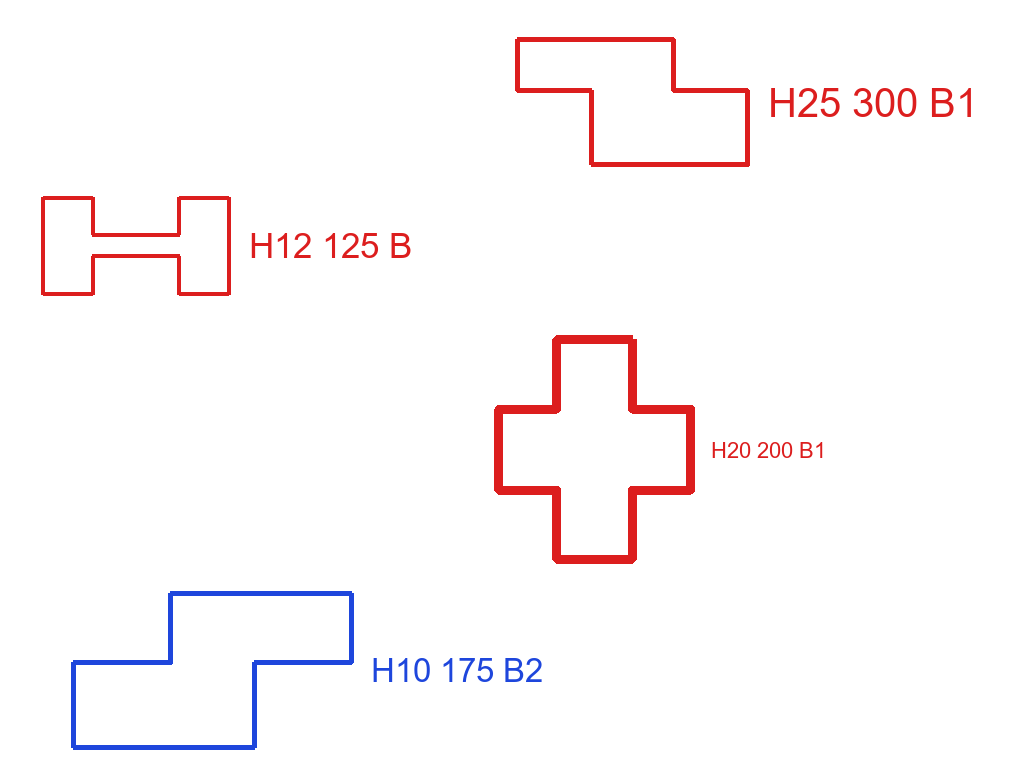shape: (492, 333, 697, 566), (69, 589, 356, 752), (513, 35, 752, 169), (39, 193, 233, 298)
text: (766, 86, 980, 119), (369, 656, 545, 684), (247, 231, 414, 260), (709, 440, 828, 460)
